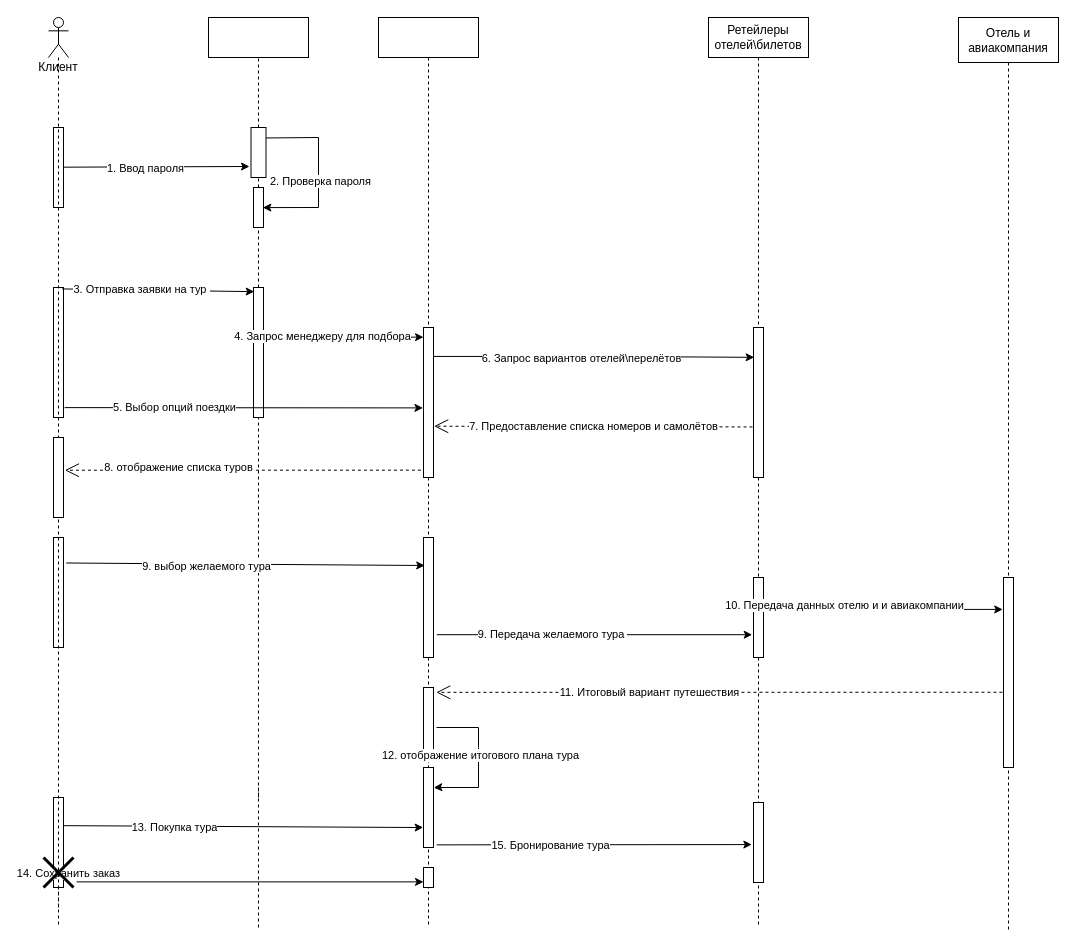
Image size: 1076x950. Some labels were removed from this diagram. Each missing label, with the box of its shape:
Менеджер по подбору туров: (378, 16, 478, 928)
Сайт: (208, 16, 308, 58)
